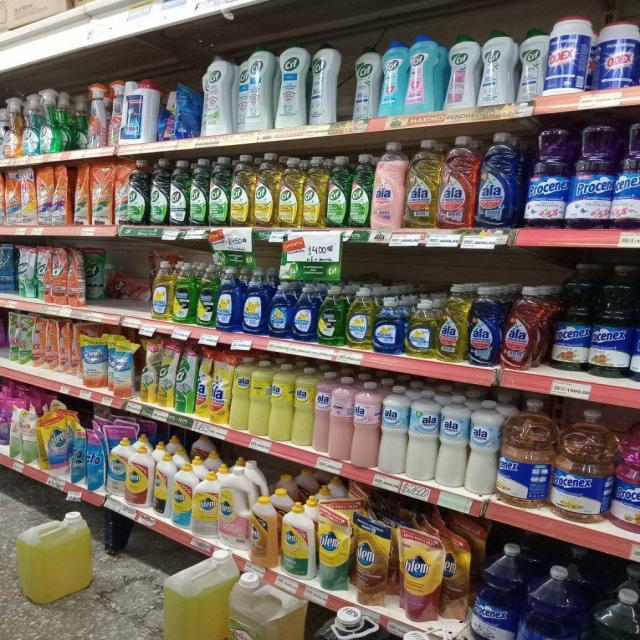ala_conc_amarillo: (405, 138, 439, 228), (438, 284, 467, 362)
ala_conc_azul: (476, 132, 521, 228), (468, 284, 501, 366)
ala_conc_rojo: (502, 285, 548, 370), (438, 134, 476, 229)
ala_crem_amarillo: (292, 366, 314, 448), (270, 362, 292, 442), (230, 356, 249, 431)
ala_crem_blanco: (467, 398, 497, 494), (437, 394, 467, 488), (407, 388, 437, 482), (379, 384, 407, 474)
ala_crem_rosado: (352, 380, 378, 468), (328, 374, 352, 462), (314, 371, 329, 454)
ala_sachet_amarillo: (210, 353, 230, 424), (196, 352, 210, 419)
ala_ultra_rosa: (372, 140, 404, 228)
cif_conc_bot_amarilla: (230, 153, 254, 227), (302, 156, 326, 228), (254, 152, 277, 226), (279, 156, 302, 227)
cif_conc_botella_verde: (349, 152, 371, 228), (326, 155, 348, 228), (125, 158, 148, 226), (208, 156, 230, 226), (189, 157, 208, 226), (169, 158, 188, 226), (149, 158, 168, 226)
cif_conc_sachet_amarillo: (140, 337, 157, 403), (158, 340, 174, 408)
cif_conc_sachet_verde: (176, 345, 194, 414)
magistral_con_amarillo: (406, 298, 436, 358), (346, 288, 373, 350), (151, 259, 173, 321)
magistral_con_azul: (374, 295, 404, 354), (242, 267, 267, 335), (217, 265, 241, 332), (293, 284, 316, 342), (269, 281, 291, 338)
magistral_con_verde: (318, 286, 345, 346), (174, 264, 195, 322), (196, 268, 215, 327)
